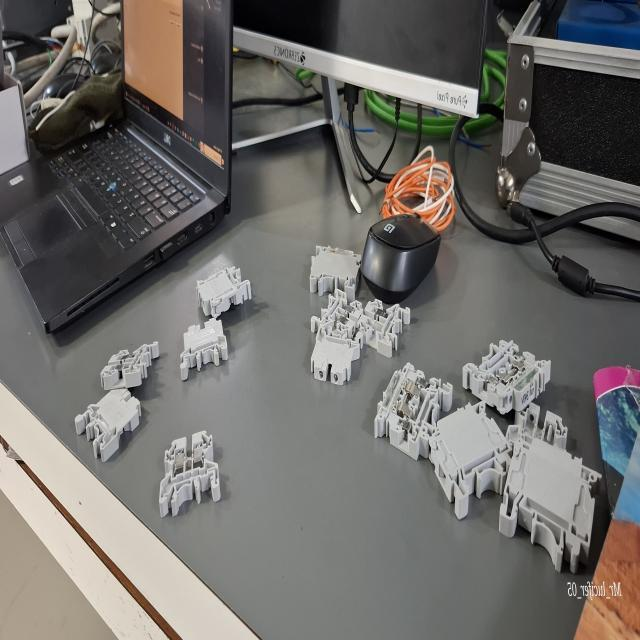Inverted: (66, 384, 148, 467), (178, 312, 234, 386), (304, 328, 364, 392), (194, 262, 253, 318)
Pass: (150, 424, 222, 536), (93, 317, 163, 393), (309, 288, 366, 336)
Reject: (354, 294, 415, 360)
